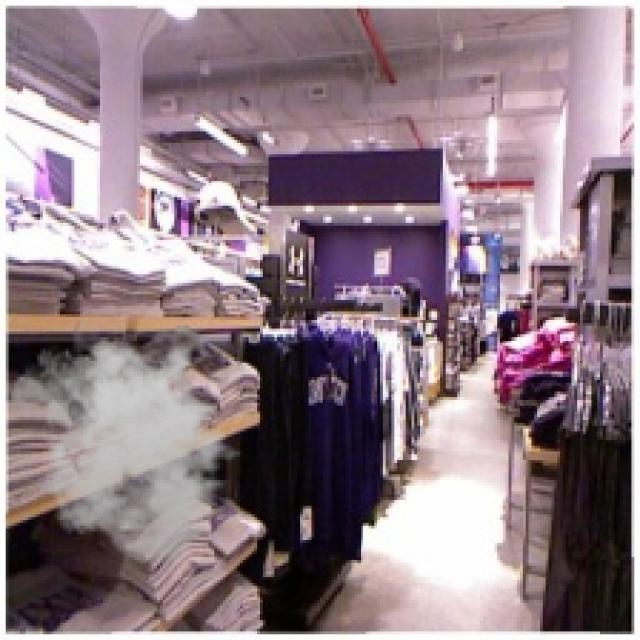smoke: (12, 320, 252, 566)
